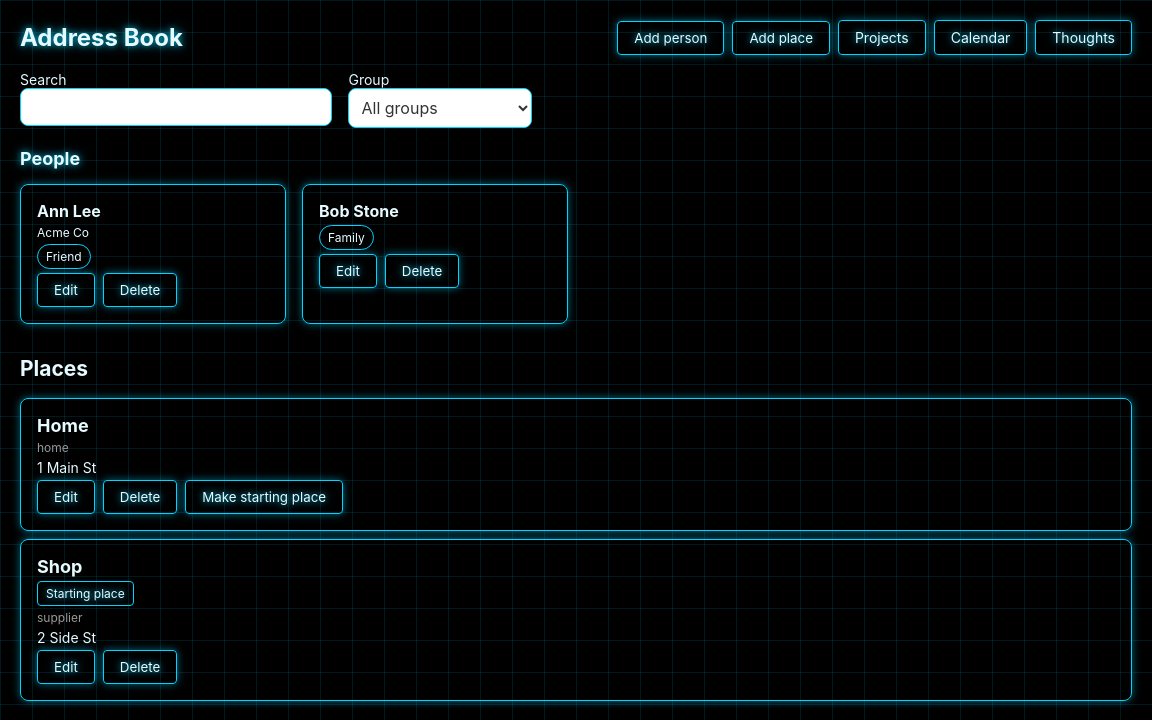
Test: AddressBookPage pop-up › editing a place opens a filled pop-up
What coordinates should you click on to do the following:
click the button "Edit" below "1 Main St"
I would click on:
 (66, 497)
Its box is [37,480,95,514].
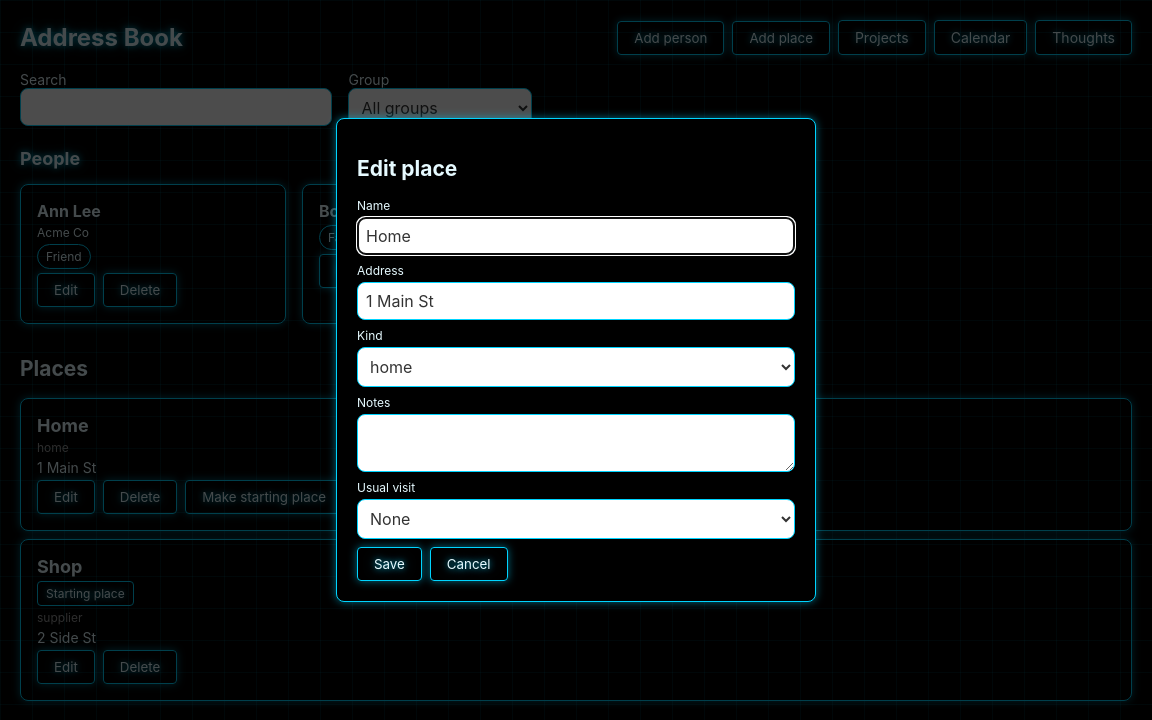
Expected: the heading "Edit place" is shown, [357,156,457,181]
Expected: the field labelled "Name" holds "Home", [357,217,795,255]
